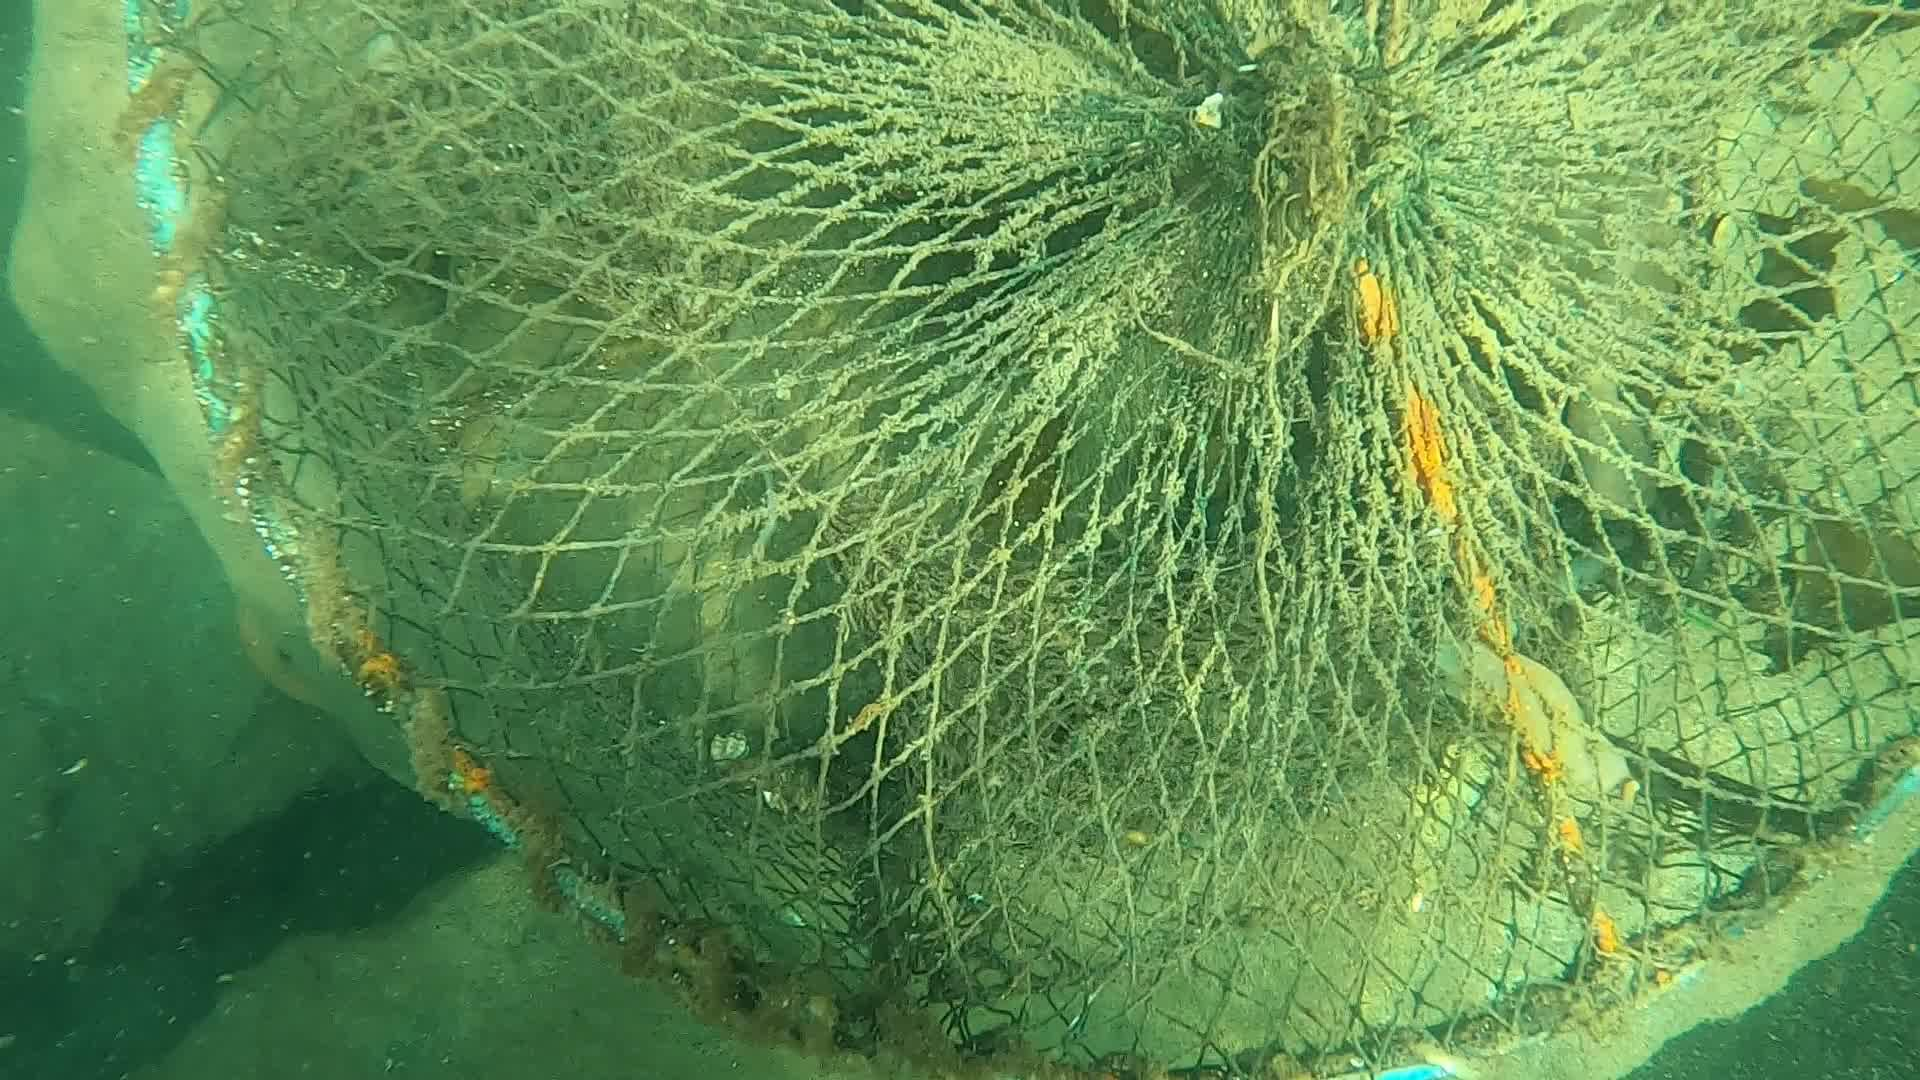circular fish trap: (109, 0, 1920, 1080)
